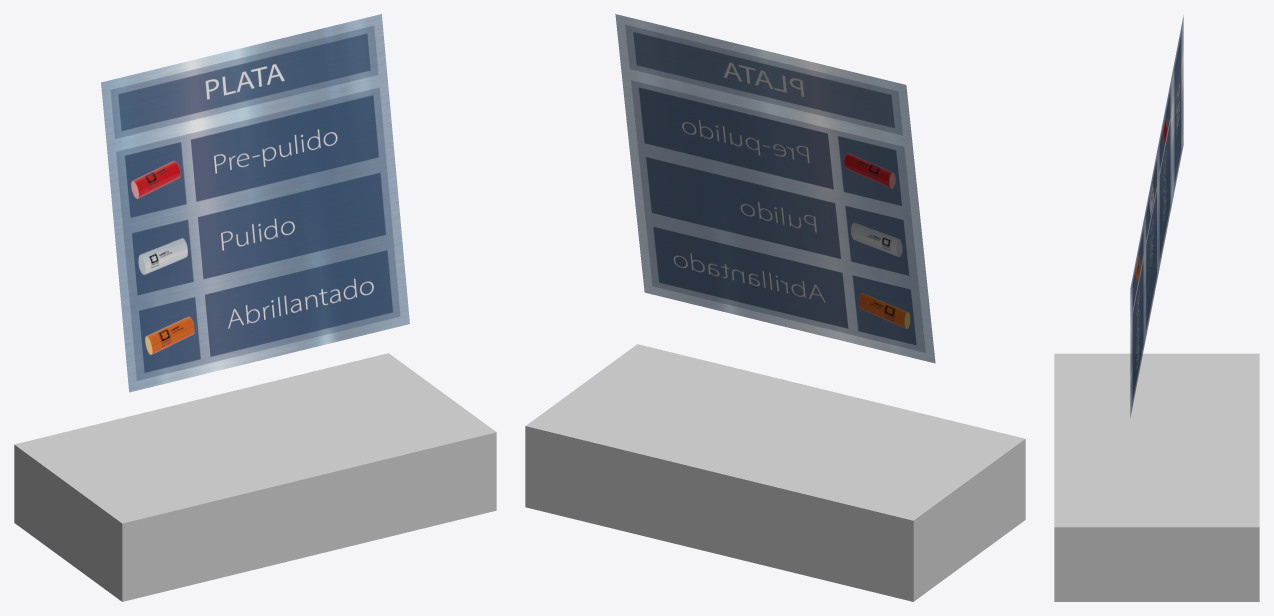
The model's file is plata.glb.
3 views of the same model, side by side, from view 1: azimuth 30°, elevation 25°; view 2: azimuth 150°, elevation 25°; view 3: azimuth 270°, elevation 25° (orthographic). The views are drawn at different scales.
Parts seen in each view (by area): view 1: PNG_Flotante, Plata_Block; view 2: Plata_Block, PNG_Flotante; view 3: Plata_Block, PNG_Flotante.
Part boxes in pixels (x1,y1,x2,y2): PNG_Flotante: [101, 14, 409, 392]; Plata_Block: [14, 353, 496, 601]; Plata_Block: [525, 344, 1025, 601]; PNG_Flotante: [615, 14, 935, 363]; Plata_Block: [1054, 353, 1259, 601]; PNG_Flotante: [1130, 16, 1183, 417].
Size of the model in its own units: 0.1 by 0.1169 by 0.05.
2 materials, 1 textured.
